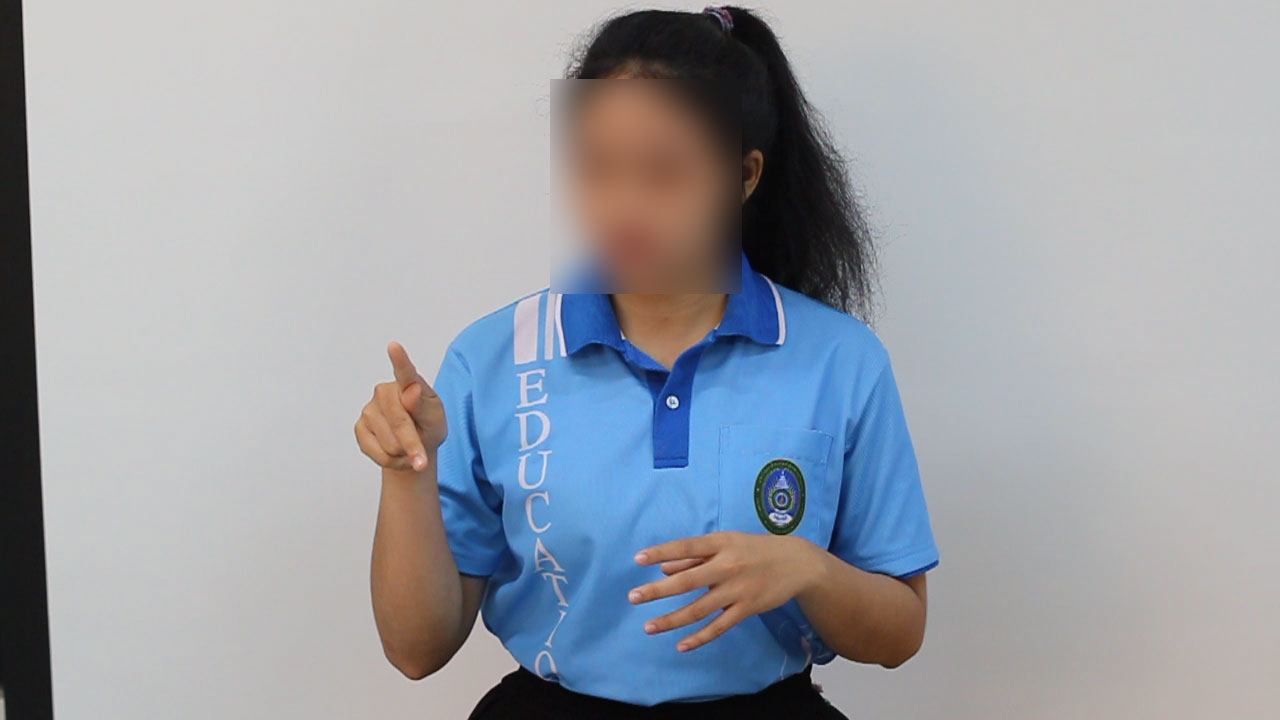por: (332, 327, 464, 492)
